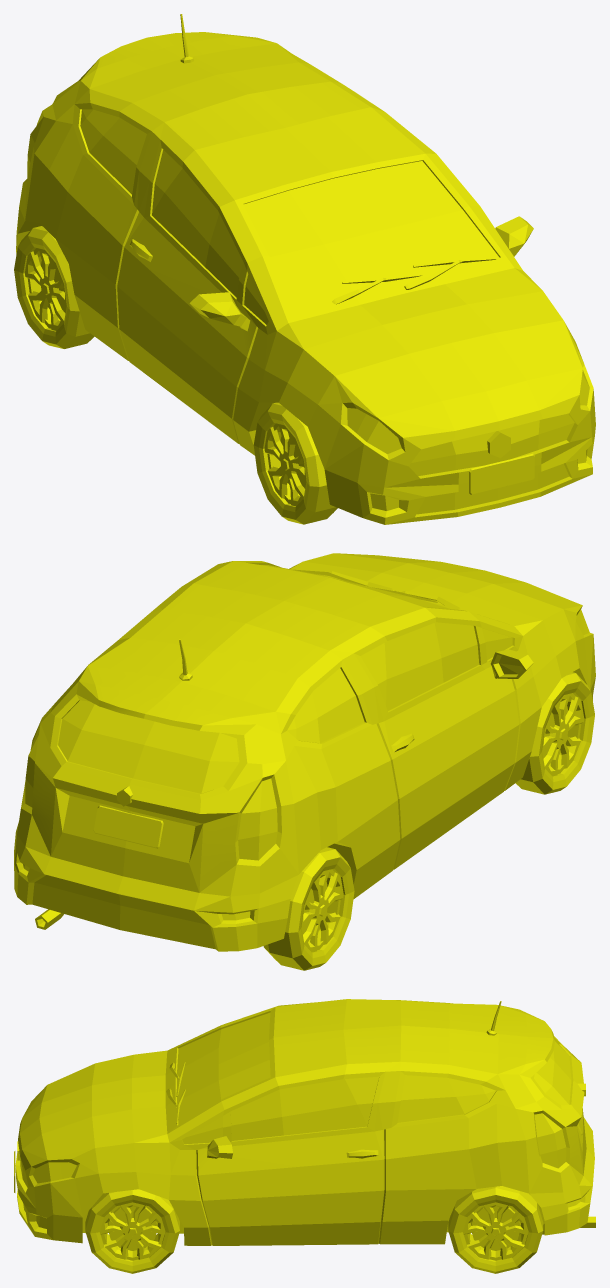
File: SM_PolygonCity_Veh_Car_Small_01.glb
3 renders of one model, top to bottom at view 1: azimuth 30°, elevation 25°; view 2: azimuth 150°, elevation 25°; view 3: azimuth 270°, elevation 25°, orthographic. The views are drawn at different scales.
Parts seen in each view (by area): view 1: SM_PolygonCity_Veh_Car_Small_01, SM_PolygonCity_Veh_Car_Small_Glass, SM_PolygonCity_Veh_Car_Small_Wheel_fr, SM_PolygonCity_Veh_Car_Small_Wheel_rr, SM_PolygonCity_Veh_Car_Small_Plates; view 2: SM_PolygonCity_Veh_Car_Small_01, SM_PolygonCity_Veh_Car_Small_Glass, SM_PolygonCity_Veh_Car_Small_Wheel_rr, SM_PolygonCity_Veh_Car_Small_Wheel_fr, SM_PolygonCity_Veh_Car_Small_Plates; view 3: SM_PolygonCity_Veh_Car_Small_01, SM_PolygonCity_Veh_Car_Small_Glass, SM_PolygonCity_Veh_Car_Small_Wheel_rl, SM_PolygonCity_Veh_Car_Small_Wheel_fl.
Boxes of the visible parts, x1,y1,x2,y2 form: SM_PolygonCity_Veh_Car_Small_01: (16, 14, 595, 524); SM_PolygonCity_Veh_Car_Small_Glass: (80, 109, 499, 324); SM_PolygonCity_Veh_Car_Small_Wheel_fr: (253, 402, 337, 524); SM_PolygonCity_Veh_Car_Small_Wheel_rr: (14, 226, 94, 348); SM_PolygonCity_Veh_Car_Small_Plates: (469, 453, 534, 494); SM_PolygonCity_Veh_Car_Small_01: (14, 553, 595, 951); SM_PolygonCity_Veh_Car_Small_Glass: (58, 565, 512, 793); SM_PolygonCity_Veh_Car_Small_Wheel_rr: (263, 847, 354, 970); SM_PolygonCity_Veh_Car_Small_Wheel_fr: (515, 672, 594, 794); SM_PolygonCity_Veh_Car_Small_Plates: (93, 805, 163, 848); SM_PolygonCity_Veh_Car_Small_01: (15, 999, 595, 1245); SM_PolygonCity_Veh_Car_Small_Glass: (177, 1012, 571, 1144); SM_PolygonCity_Veh_Car_Small_Wheel_rl: (448, 1186, 543, 1273); SM_PolygonCity_Veh_Car_Small_Wheel_fl: (85, 1189, 179, 1273).
Bounding box in the file's own units: 2.07 × 1.73 × 4.08.
Materials: 1 (1 with a texture image).
